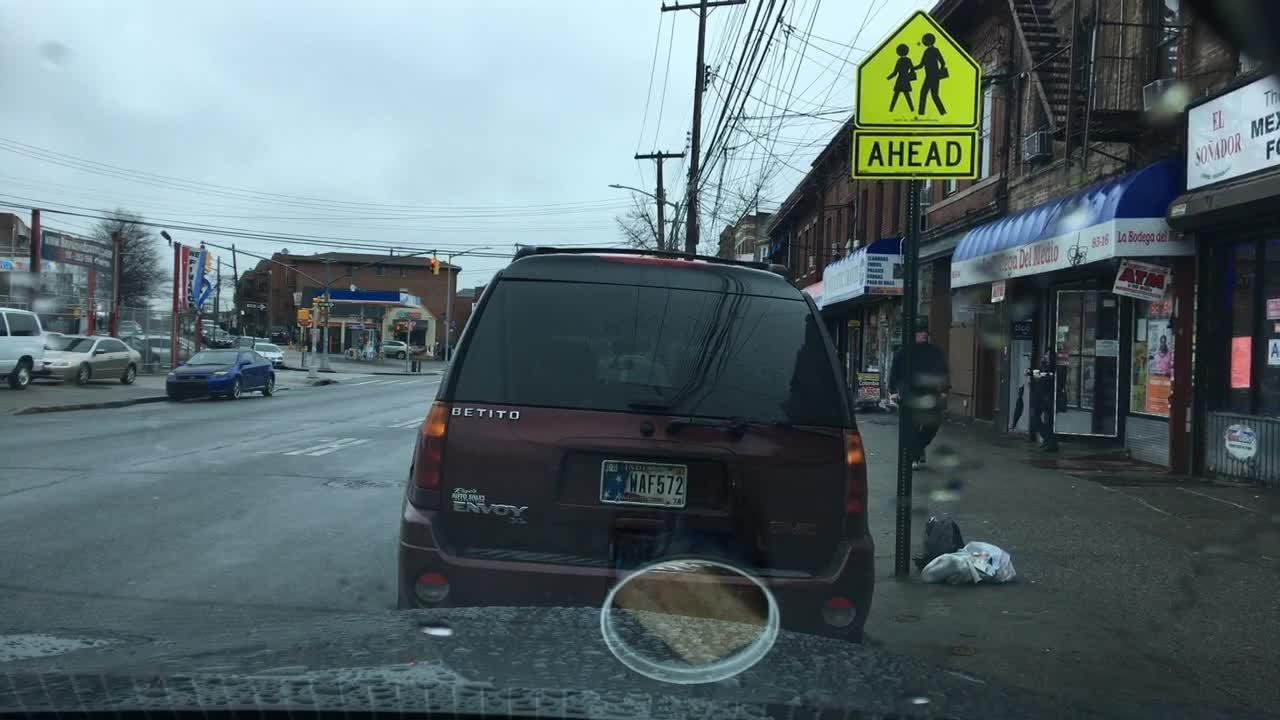GMC: (767, 517, 820, 542)
